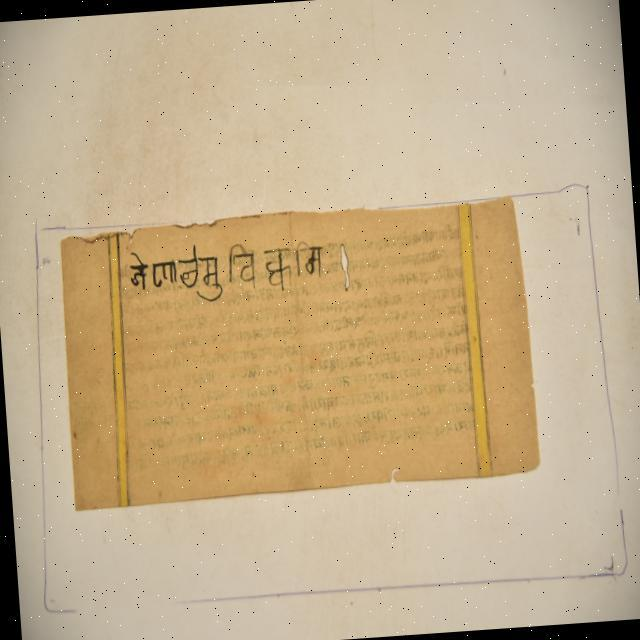text_paragraph: (62, 197, 539, 509)
